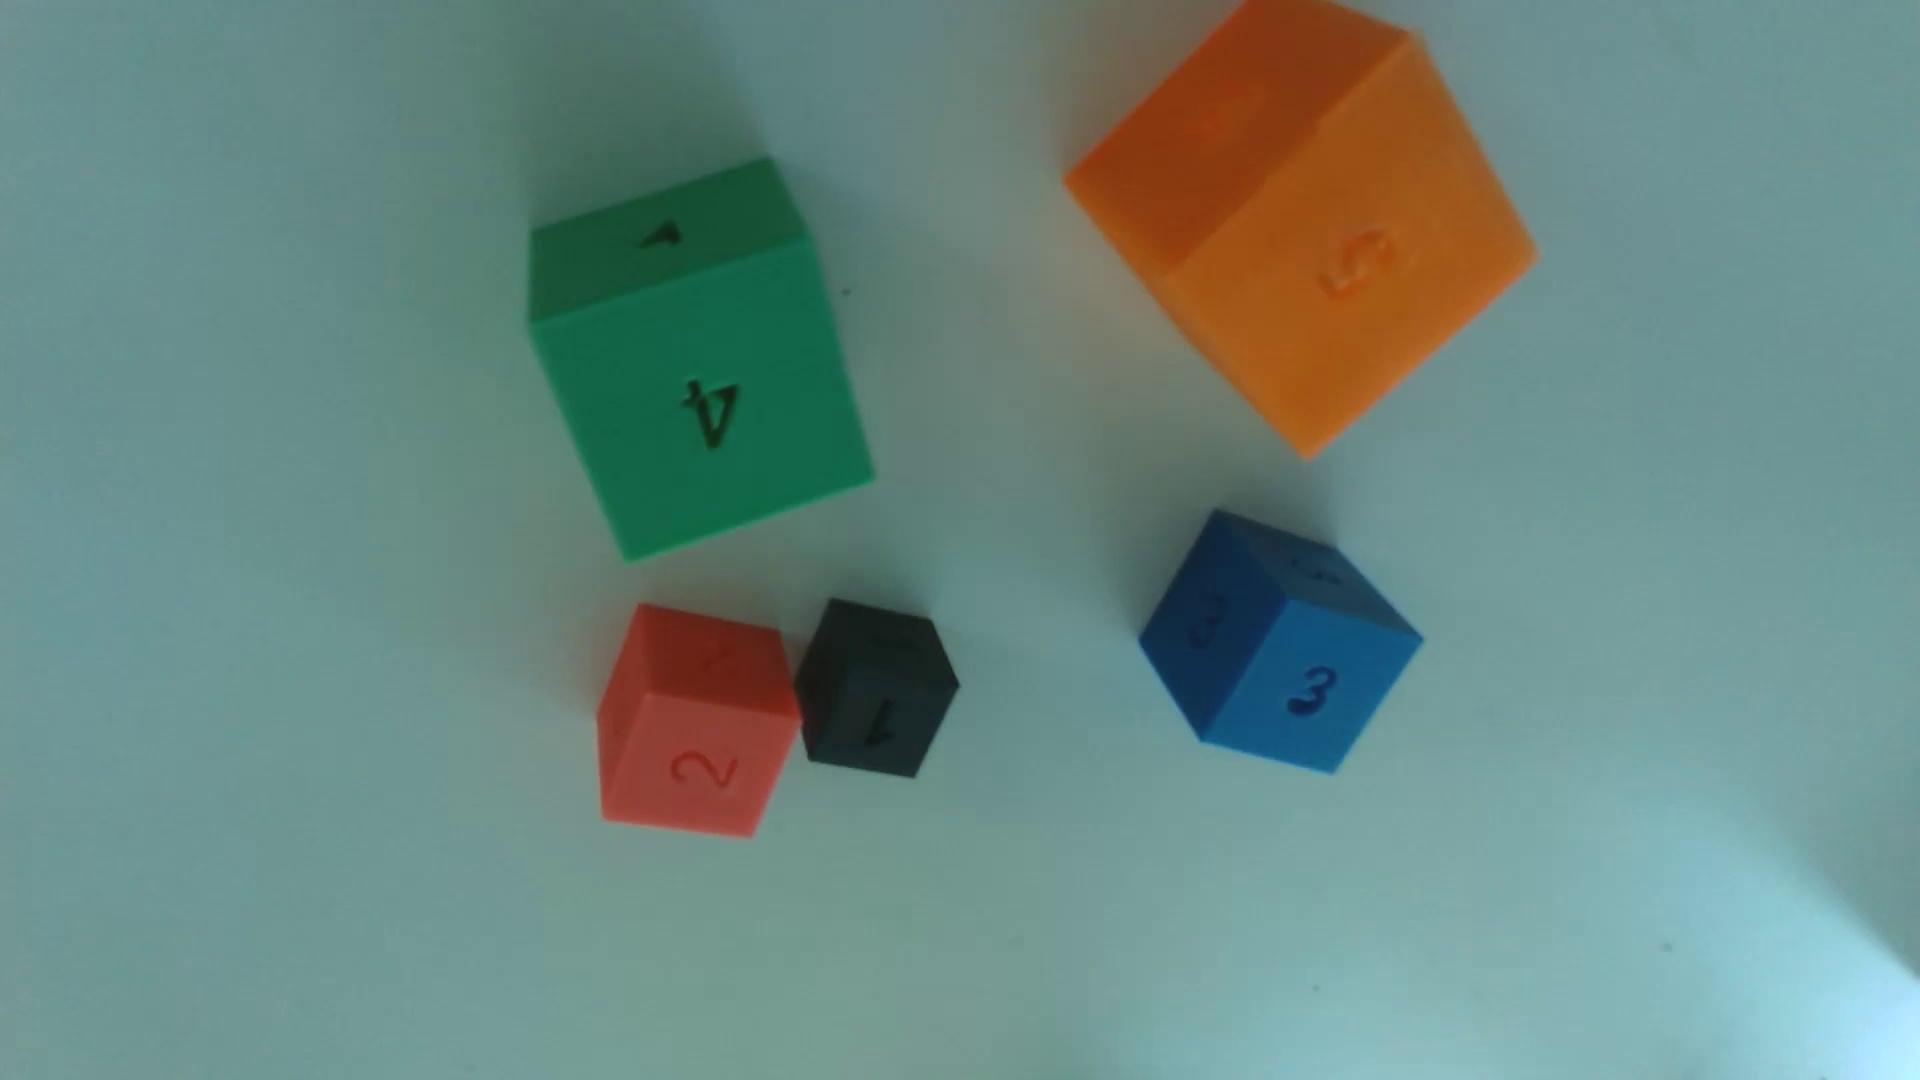black: (796, 597, 959, 777)
blue: (1139, 510, 1422, 773)
green: (527, 160, 873, 559)
orange: (1067, 0, 1535, 455)
red: (597, 603, 800, 837)
